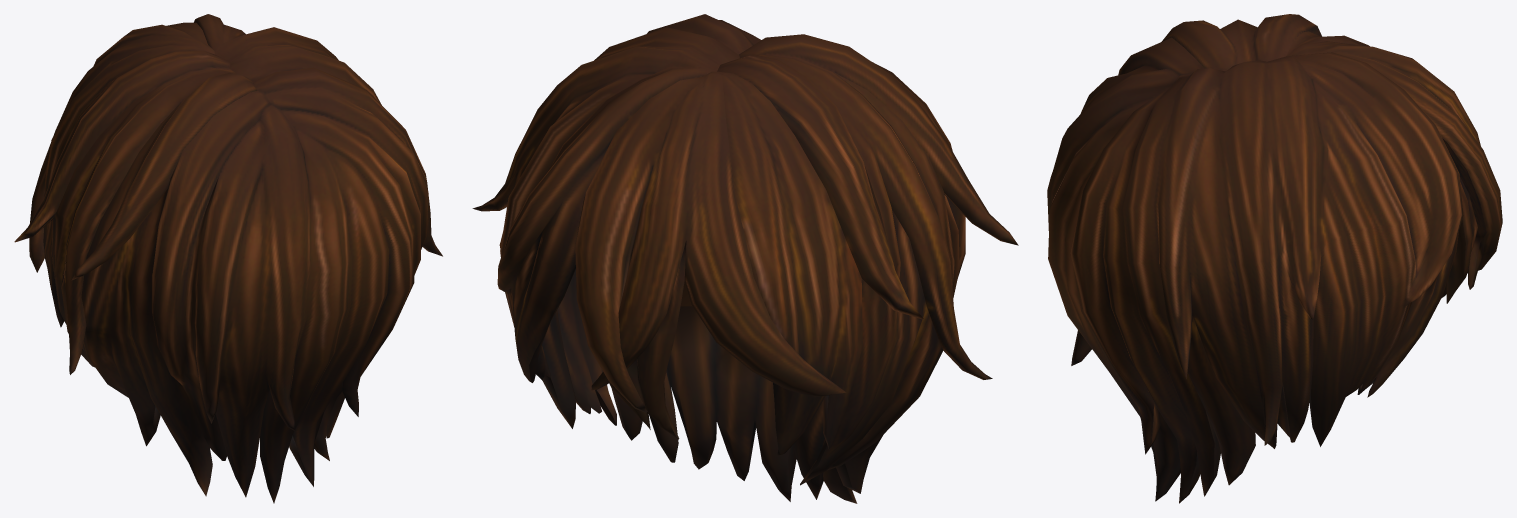
3 views of the same model, side by side, from view 1: azimuth 30°, elevation 25°; view 2: azimuth 150°, elevation 25°; view 3: azimuth 270°, elevation 25° (orthographic). The views are drawn at different scales.
Parts seen in each view (by area): view 1: geometry_0; view 2: geometry_0; view 3: geometry_0.
Boxes of the visible parts, x1,y1,x2,y2 form: geometry_0: (14, 14, 442, 503); geometry_0: (472, 14, 1018, 503); geometry_0: (1047, 14, 1502, 503).
Bounding box in the file's own units: 1.09 × 1.11 × 1.03.
1 material, 1 textured.
